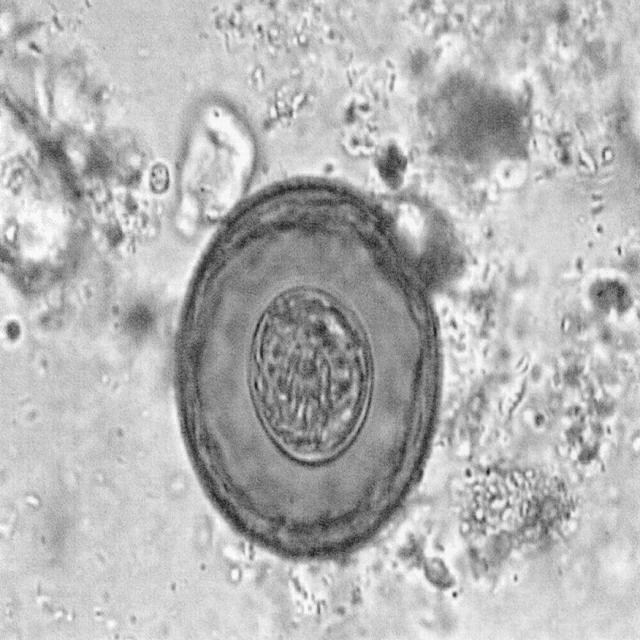Hymenolepis: (172, 169, 442, 562)
